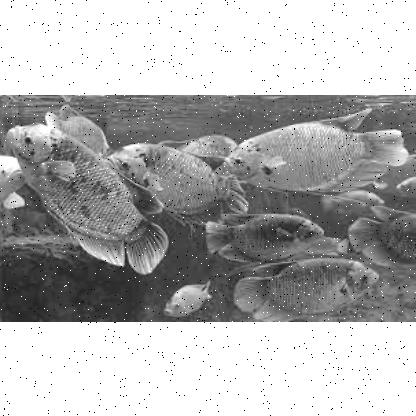gurame: (6, 121, 166, 271), (224, 109, 408, 195), (110, 142, 248, 224), (232, 256, 380, 320), (206, 209, 322, 265), (350, 200, 414, 268)
